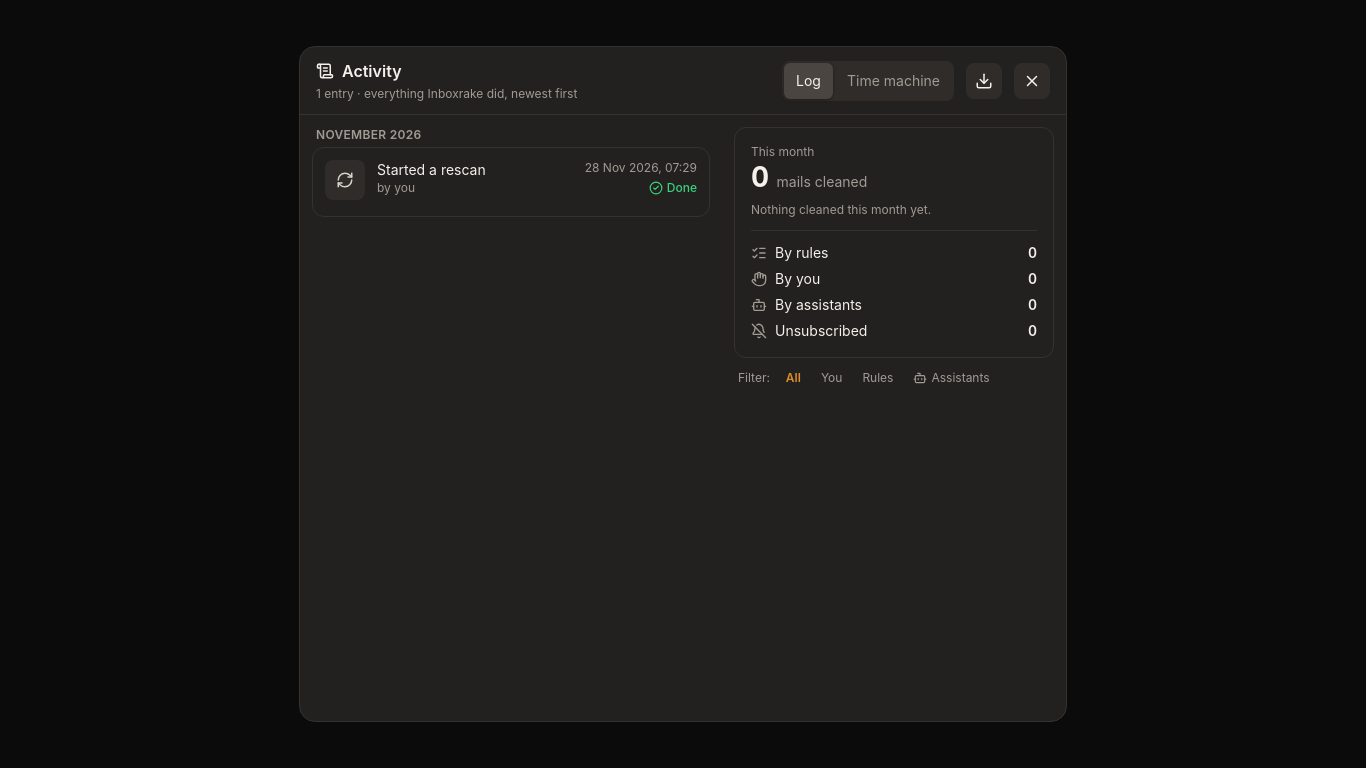
a slow answer to an earlier filter never replaces the later one
The image size is (1366, 768).
Check: the text "Started a rescan" is shown, box 377,161 -> 486,178
Click the button "Rules".
click(878, 378)  # box 858,370 -> 898,386
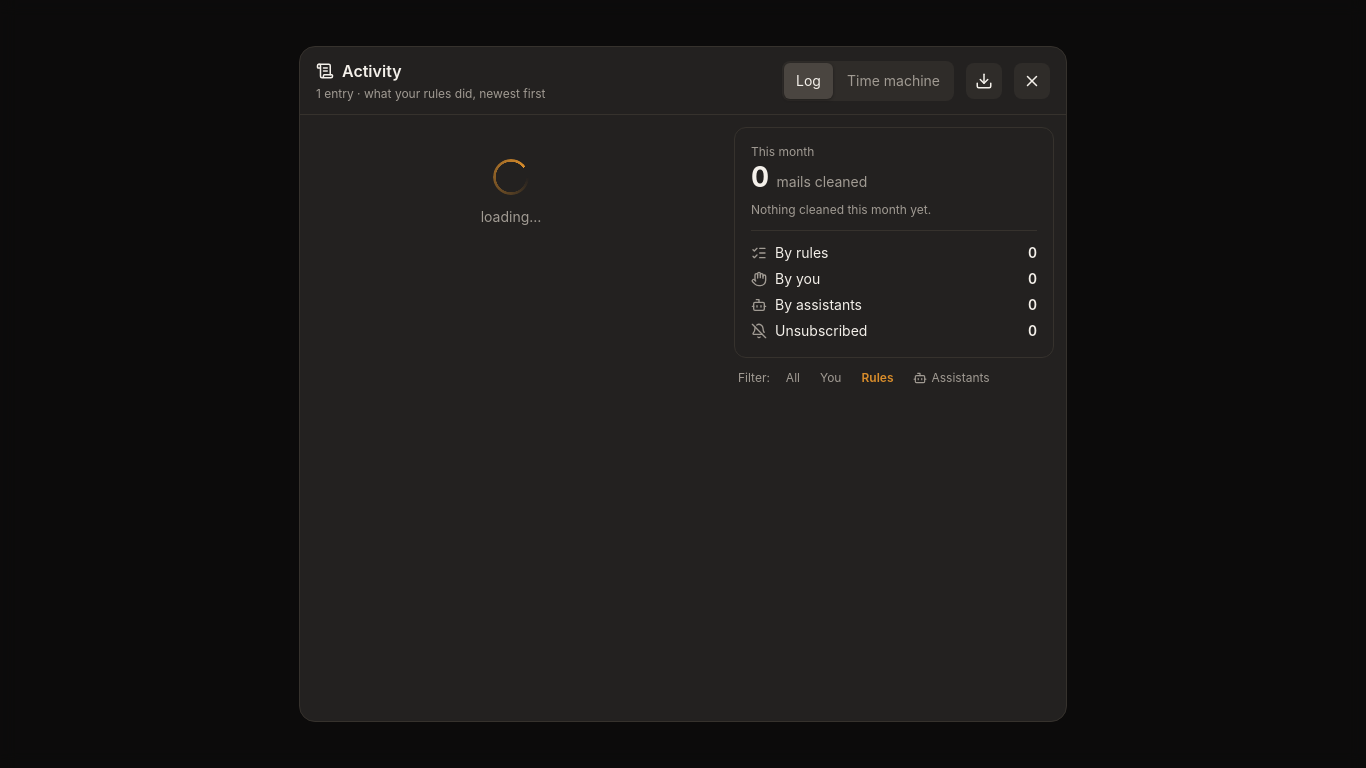
Click the button "You".
click(831, 378)  # box 816,370 -> 846,386
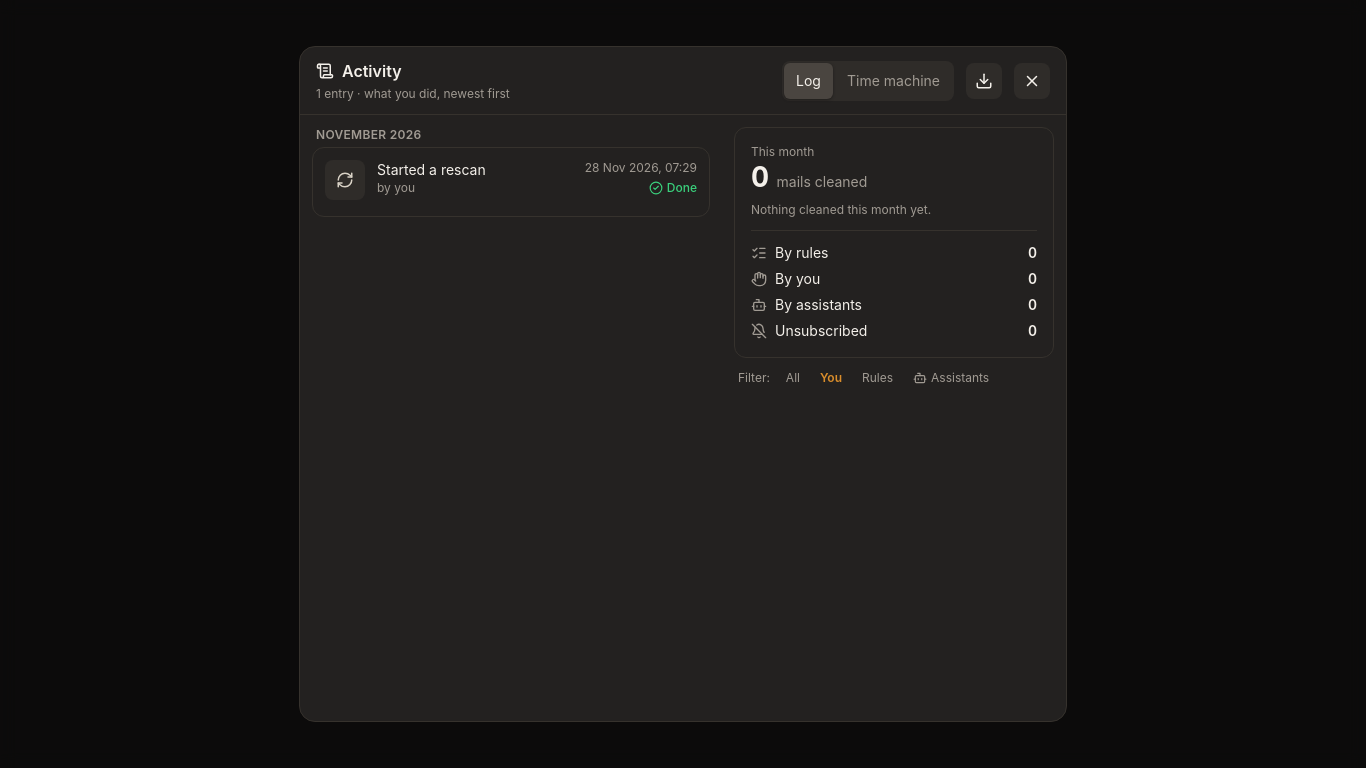
Check: the text "Started a rescan" is shown, box 377,161 -> 486,178
Check: the text "1 entry · what you did, newest first" is shown, box 316,86 -> 510,101
